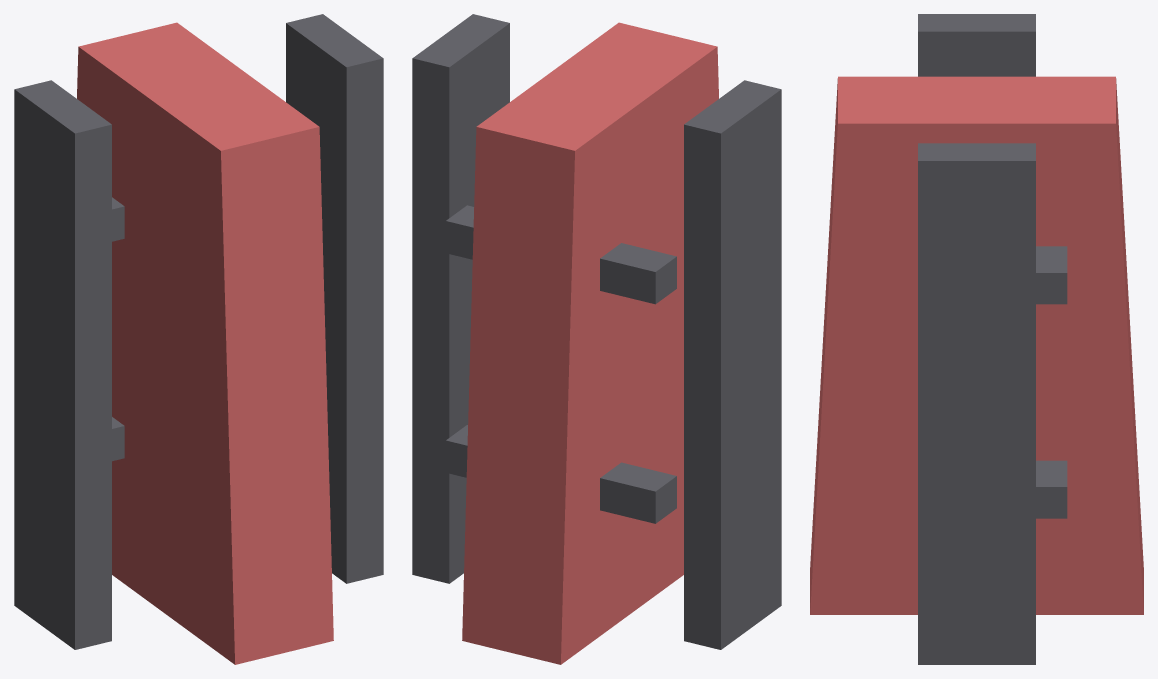
Rendered from kick_shield.glb.
3 renders of one model, left to right at view 1: azimuth 30°, elevation 25°; view 2: azimuth 150°, elevation 25°; view 3: azimuth 270°, elevation 25°, orthographic. The views are drawn at different scales.
Parts seen in each view (by area): view 1: kick-shield; view 2: kick-shield; view 3: kick-shield.
Part boxes in pixels (x1,y1,x2,y2): kick-shield: (14, 14, 383, 664); kick-shield: (412, 14, 781, 664); kick-shield: (810, 14, 1143, 664).
Size of the model in its own units: 0.5 by 0.8 by 0.48.
